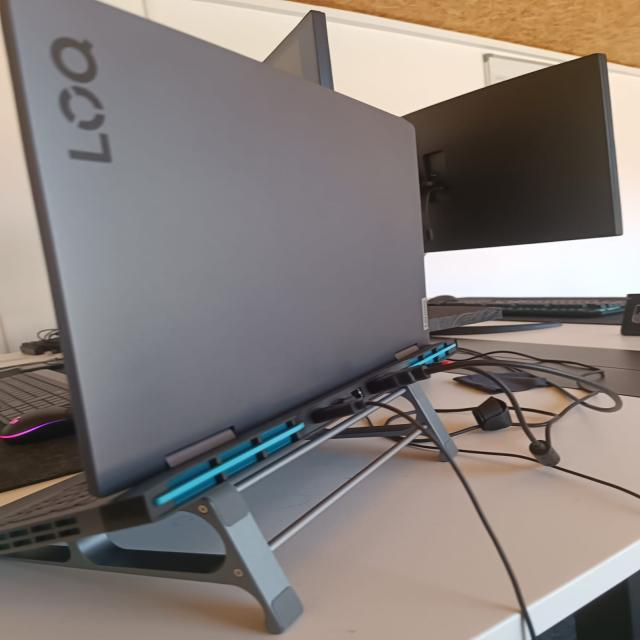Laptops_bbox: (9, 0, 587, 640)
